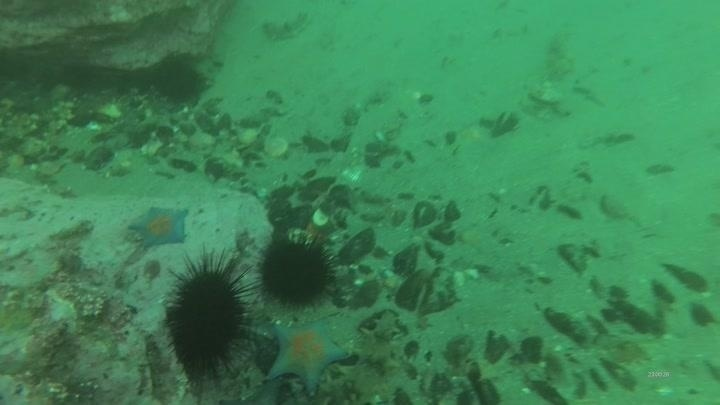echinus: (162, 256, 253, 378), (254, 234, 338, 311), (151, 54, 208, 107)
holothurian: (259, 8, 313, 43)
starfish: (263, 317, 354, 397), (128, 203, 191, 251)
